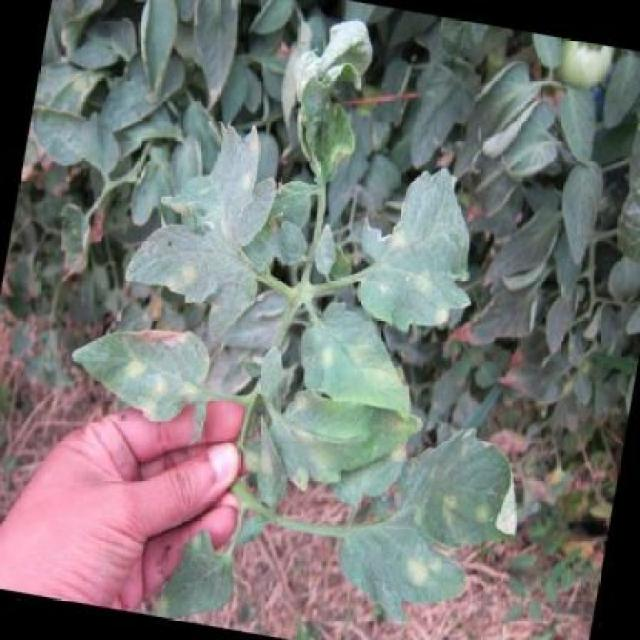Leaf Mold: (113, 98, 290, 337), (340, 155, 494, 342), (52, 288, 223, 440), (384, 405, 548, 563), (259, 3, 396, 189), (307, 508, 502, 637), (247, 392, 431, 528), (295, 295, 433, 422), (148, 518, 250, 627)
